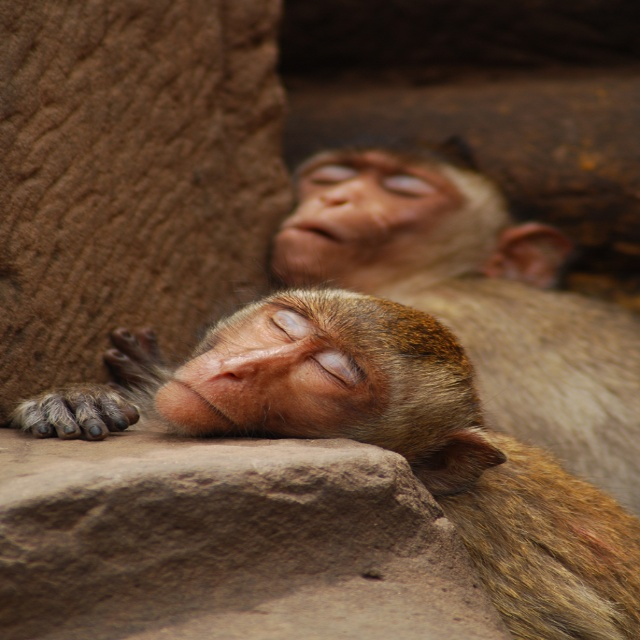Monkey: (7, 286, 639, 637), (264, 144, 576, 282)
